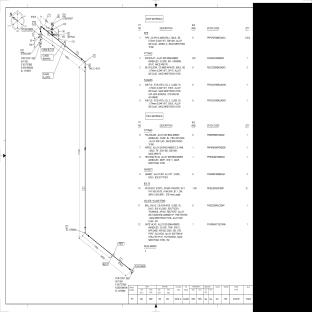elbow: (85, 228, 89, 236), (82, 59, 86, 67)
flange: (129, 268, 133, 272), (39, 31, 42, 36)
support: (111, 254, 115, 257)
valve: (39, 36, 43, 44)
weld: (84, 66, 86, 69), (43, 28, 45, 30), (81, 58, 83, 60), (84, 227, 86, 229), (88, 235, 89, 237)
